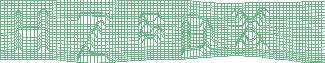D: (180, 12, 216, 58)
H: (13, 8, 51, 54)
X: (233, 8, 272, 51)
Z: (74, 11, 111, 63)
s: (137, 11, 166, 46)
